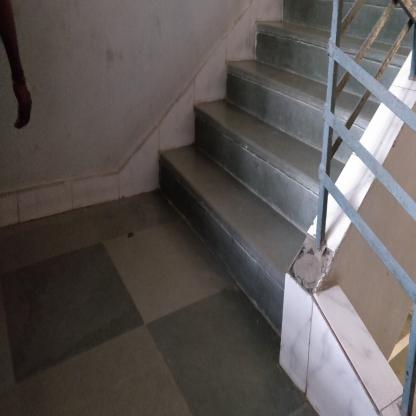stairs: (218, 50, 283, 336)
